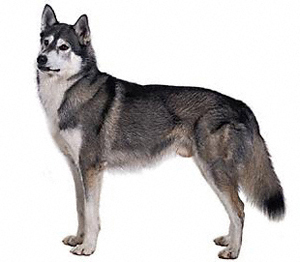dog: (34, 4, 287, 261)
